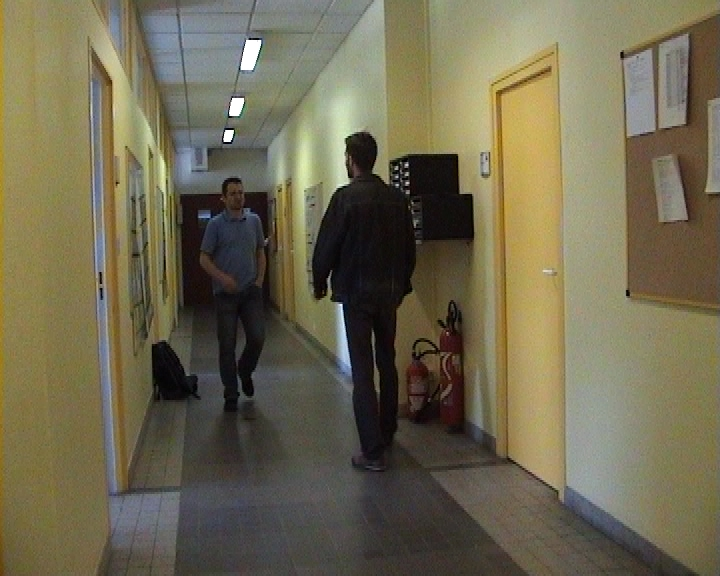leave bag unattended: (137, 292, 282, 402)
